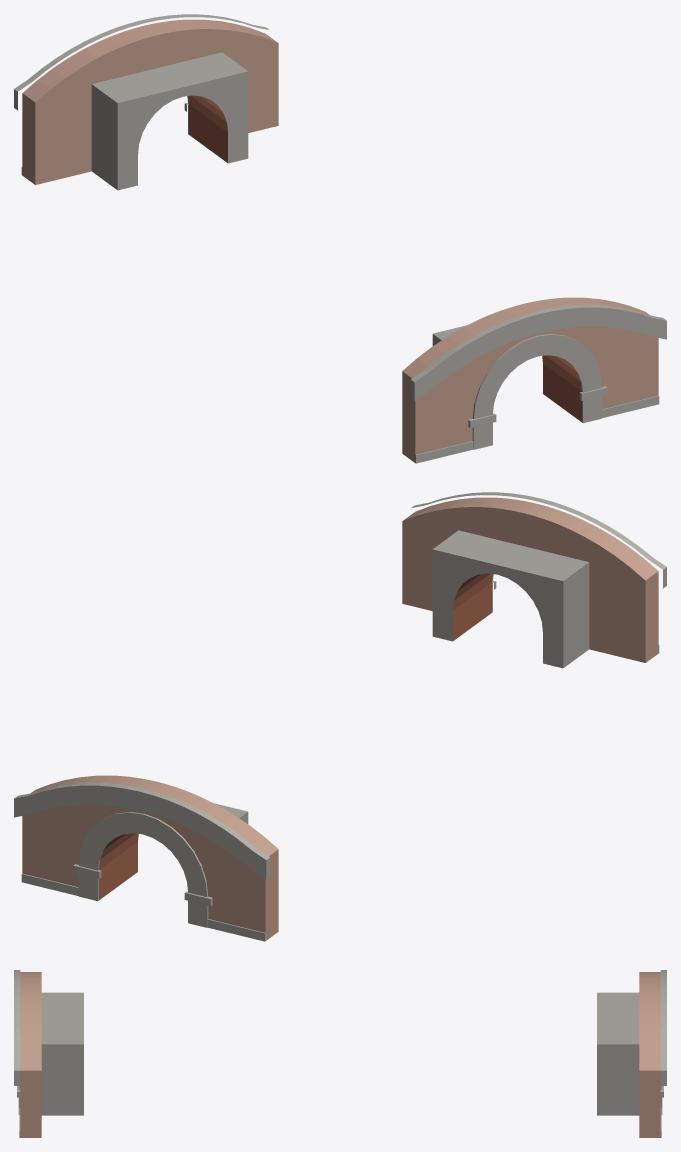
The model's file is nyc-inscope-arch.glb.
The picture shows the model from 3 angles, top to bottom: view 1: azimuth 30°, elevation 25°; view 2: azimuth 150°, elevation 25°; view 3: azimuth 270°, elevation 25°; orthographic projection. The views are drawn at different scales.
Parts seen in each view (by area): view 1: Inscope Arch; view 2: Inscope Arch; view 3: Inscope Arch.
Boxes of the visible parts, x1=… form: Inscope Arch: x1=14, y1=14, x2=666, y2=463; Inscope Arch: x1=14, y1=492, x2=666, y2=941; Inscope Arch: x1=14, y1=970, x2=666, y2=1137.
Bounding box in the file's own units: 11.2 × 5.2 × 30.8.
